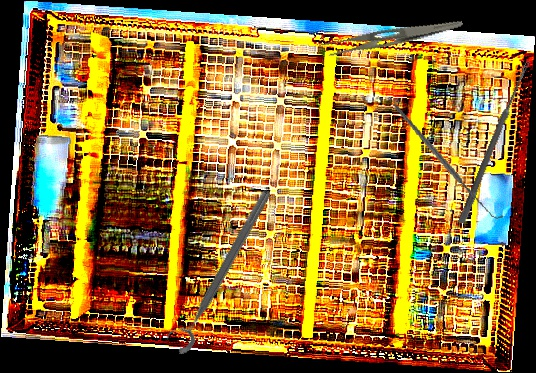Dressing Forceps: (318, 4, 464, 65)
Fixation Ring: (160, 181, 277, 358)
Hook Surgical: (392, 86, 504, 236)
Surgical Spoon: (458, 59, 531, 225)
